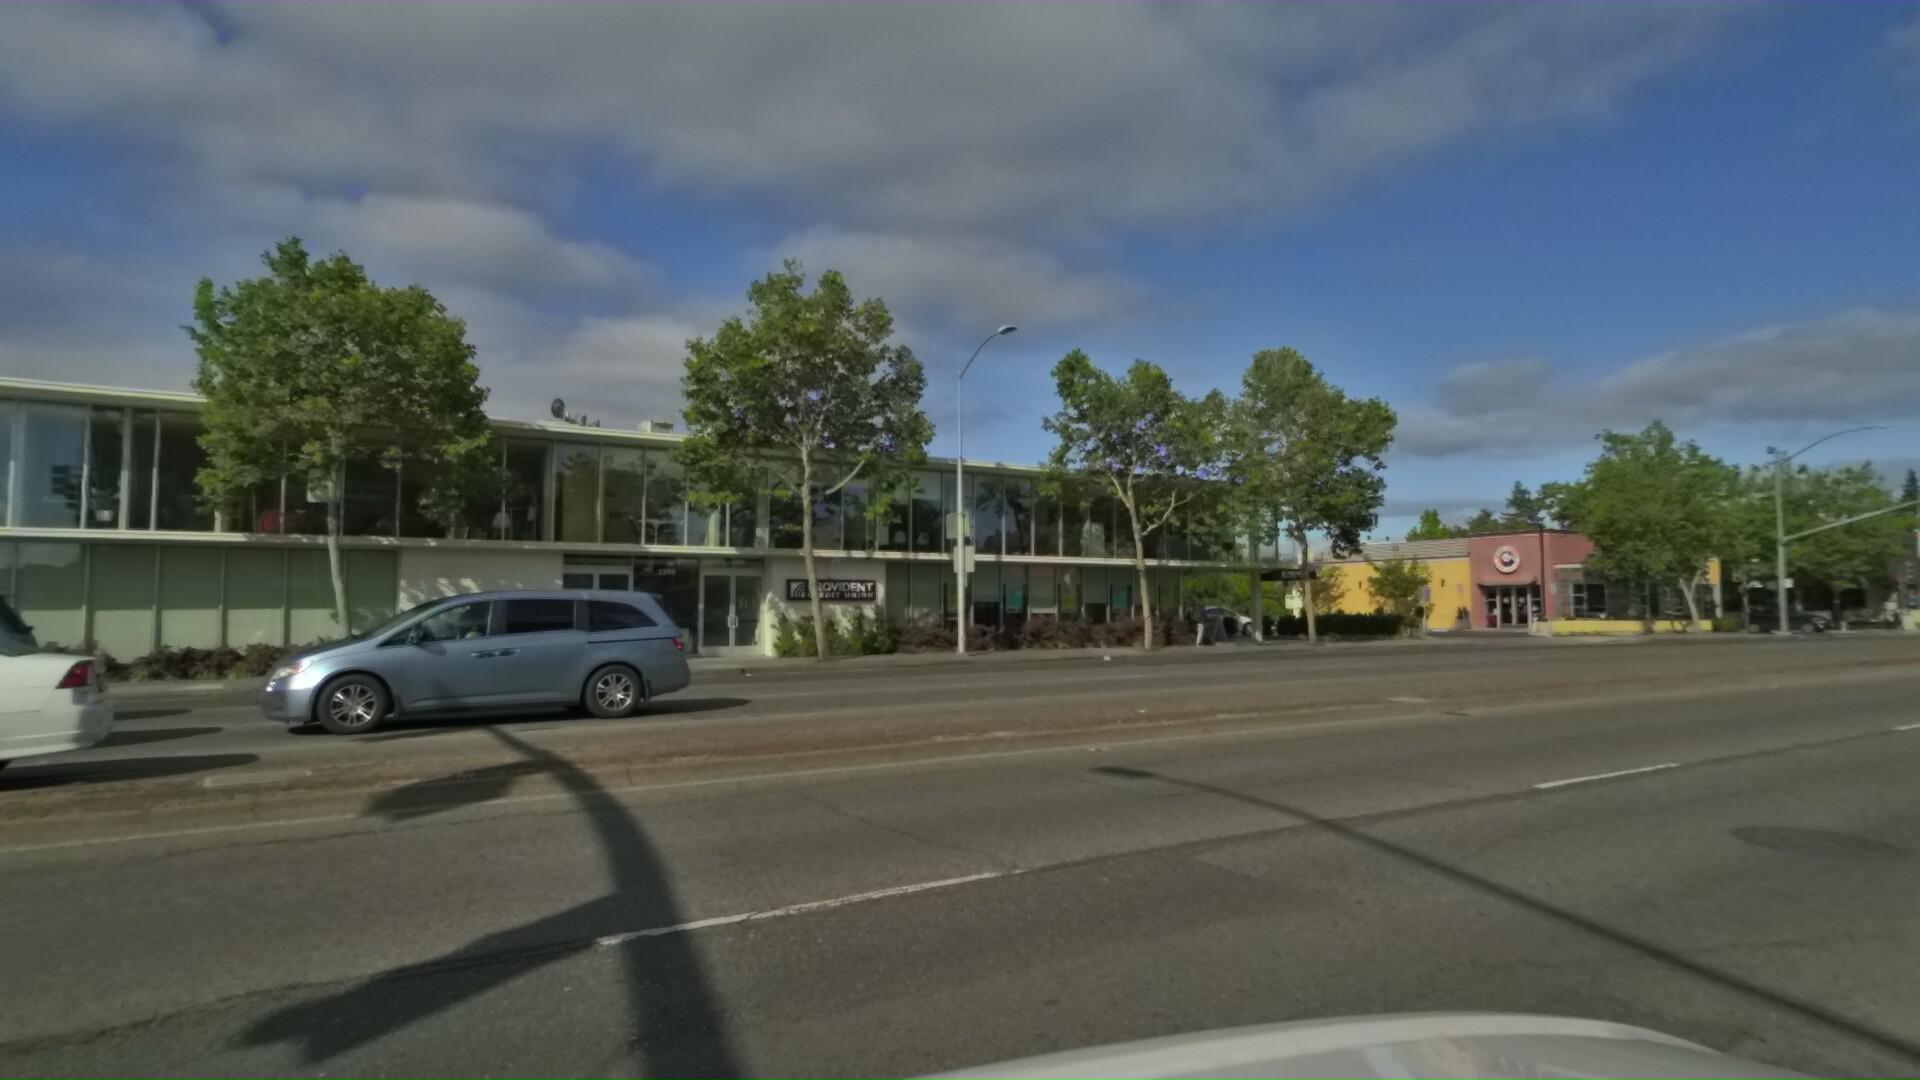car: (204, 578, 678, 756), (0, 603, 131, 895), (0, 558, 82, 825), (1741, 607, 1842, 636), (0, 560, 3, 782)
